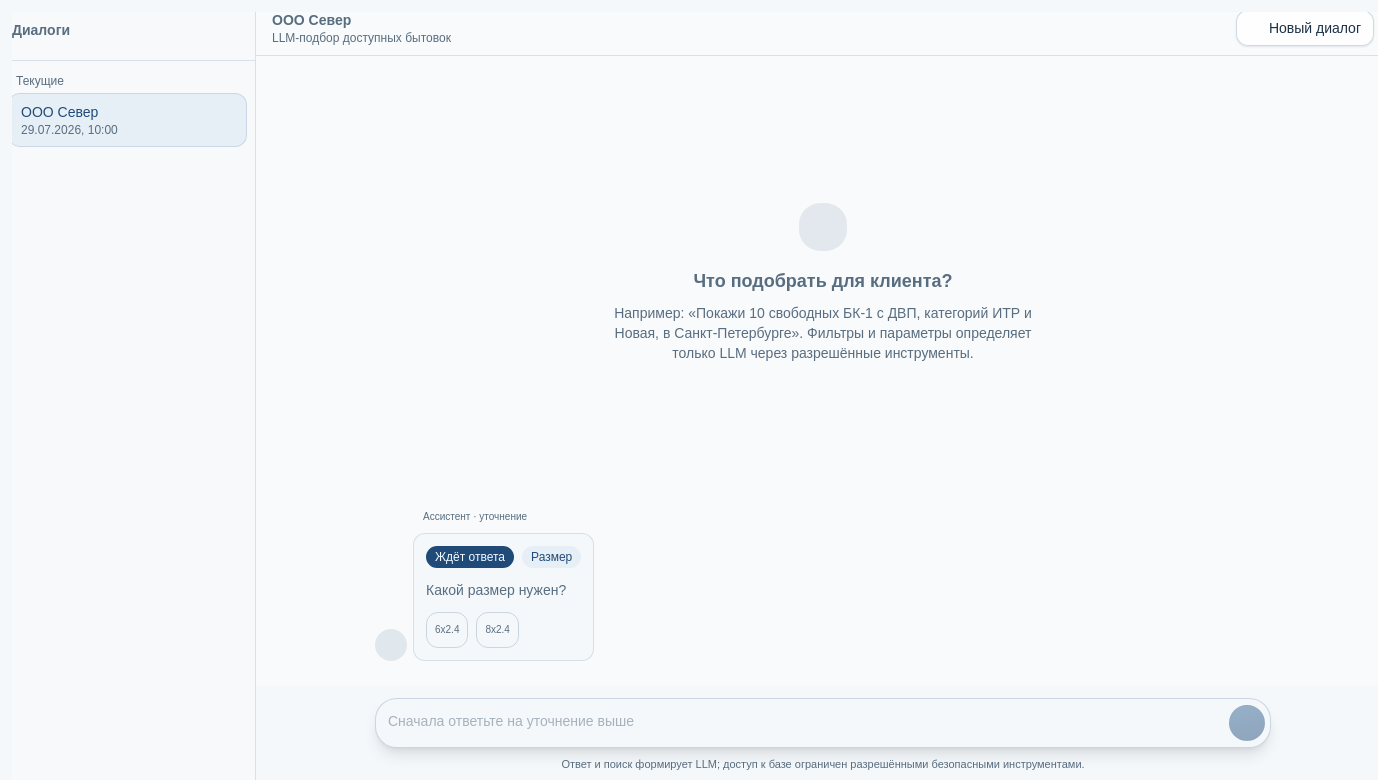
AssistantPage composer › refreshes the authoritative clarification after an out-of-order conflict
Click the radio button labelled "6x2.4" at (447, 630), box 426,612 -> 468,648
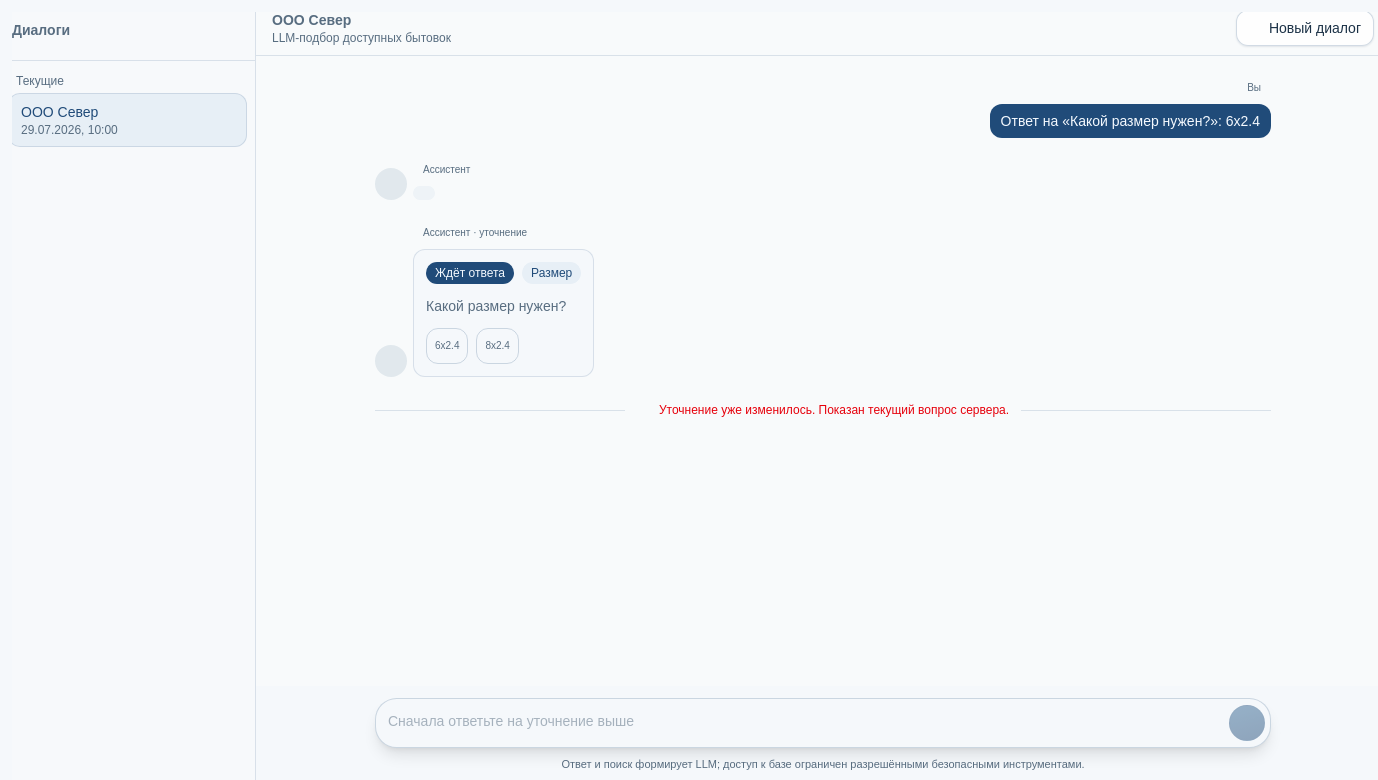
Expected: the text "Уточнение уже изменилось. Показан текущий вопрос сервера." is shown, 659,401 -> 1009,420
